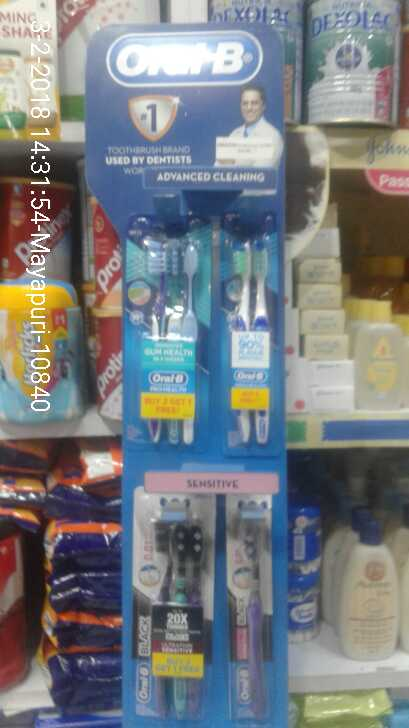oralb: (127, 228, 201, 443), (218, 238, 286, 448), (139, 512, 203, 717), (225, 504, 269, 719)
